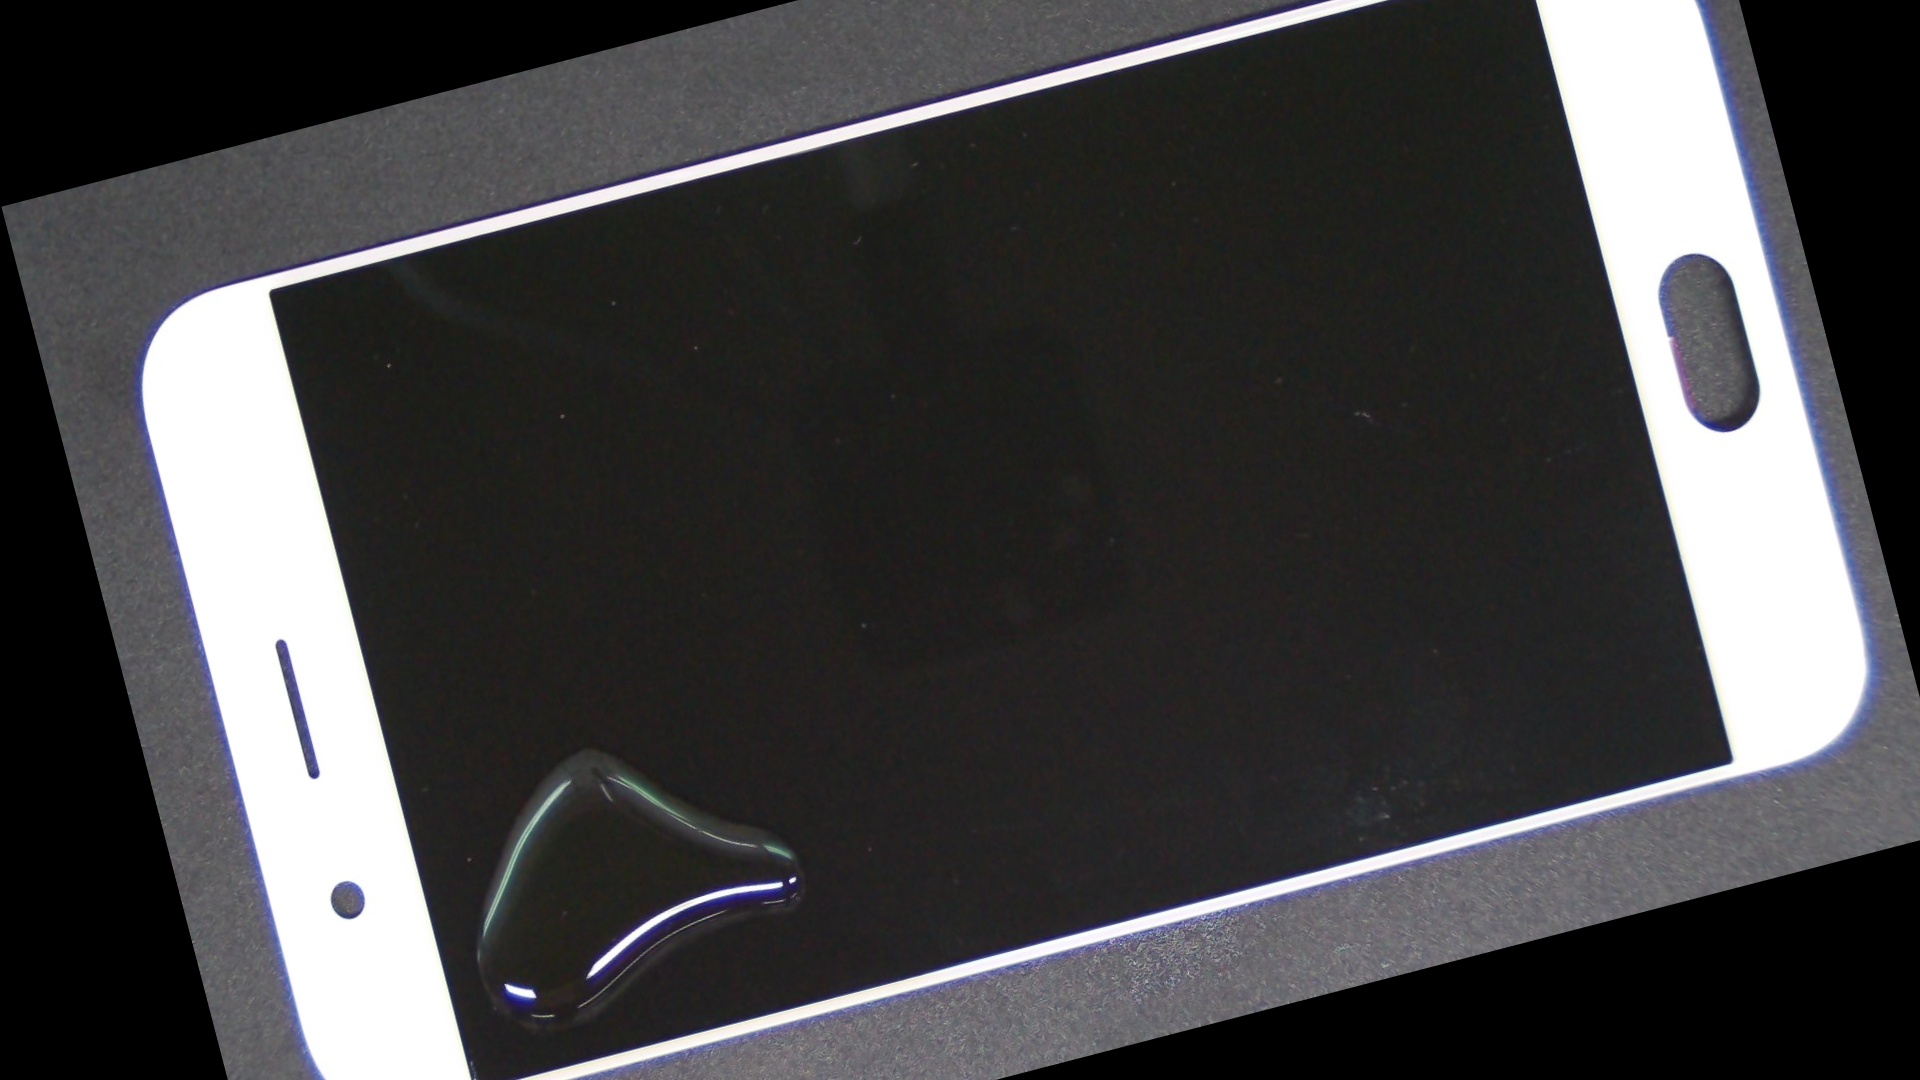oil: (291, 371, 869, 1080)
